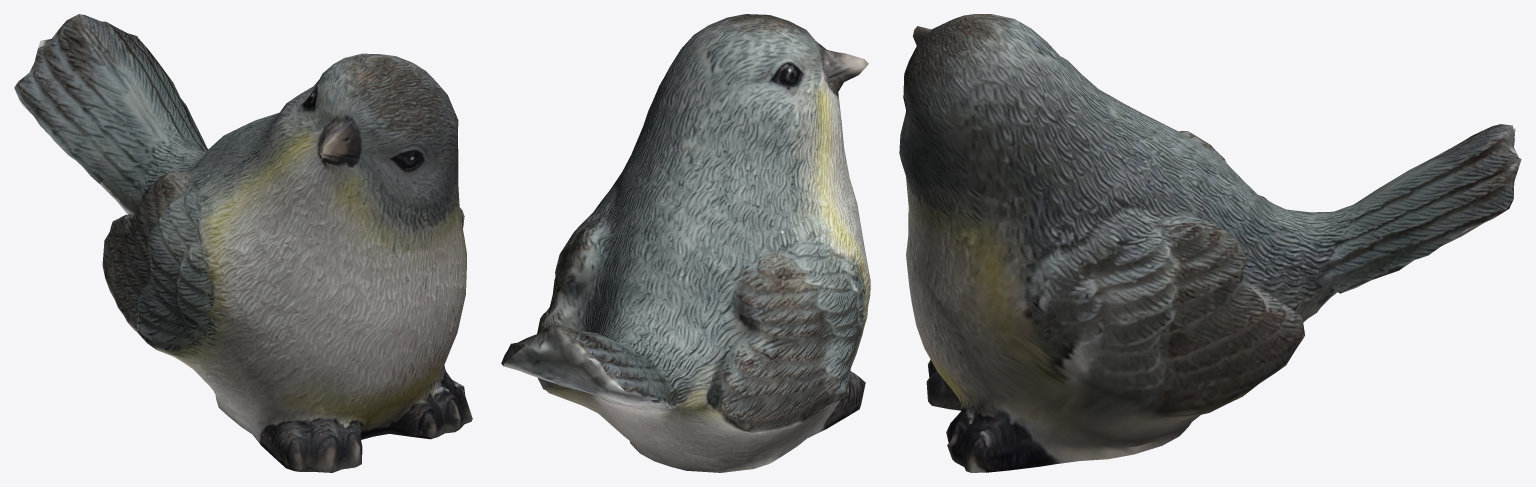
The model's file is bird_grey.glb.
3 renders of one model, left to right at view 1: azimuth 30°, elevation 25°; view 2: azimuth 150°, elevation 25°; view 3: azimuth 270°, elevation 25°, orthographic. The views are drawn at different scales.
Visible parts, largest first — view 1: geo1; view 2: geo1; view 3: geo1.
Boxes of the visible parts, x1=… form: geo1: x1=14, y1=14, x2=472, y2=472; geo1: x1=501, y1=14, x2=870, y2=472; geo1: x1=899, y1=14, x2=1521, y2=472.
Bounding box in the file's own units: 0.000641 × 0.0008 × 0.00112.
1 material, 1 textured.
